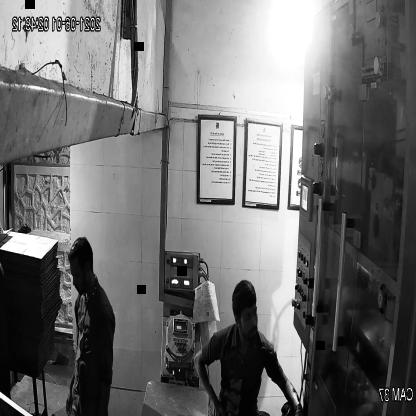no_goggles: (232, 305, 260, 326)
